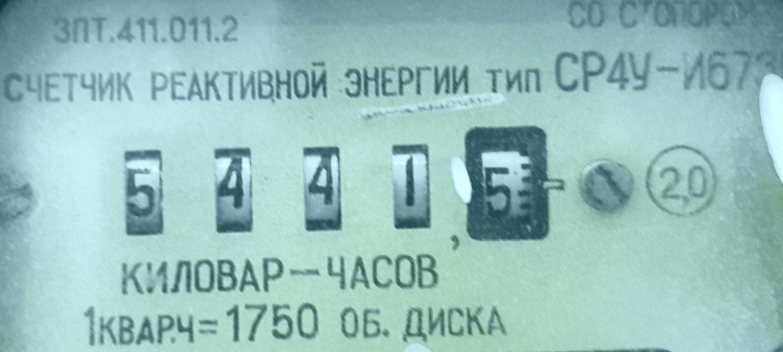1: (395, 153, 420, 212)
4: (300, 148, 338, 214), (212, 152, 248, 214)
5: (119, 164, 159, 222), (478, 161, 514, 224)
screen: (97, 98, 572, 271)
